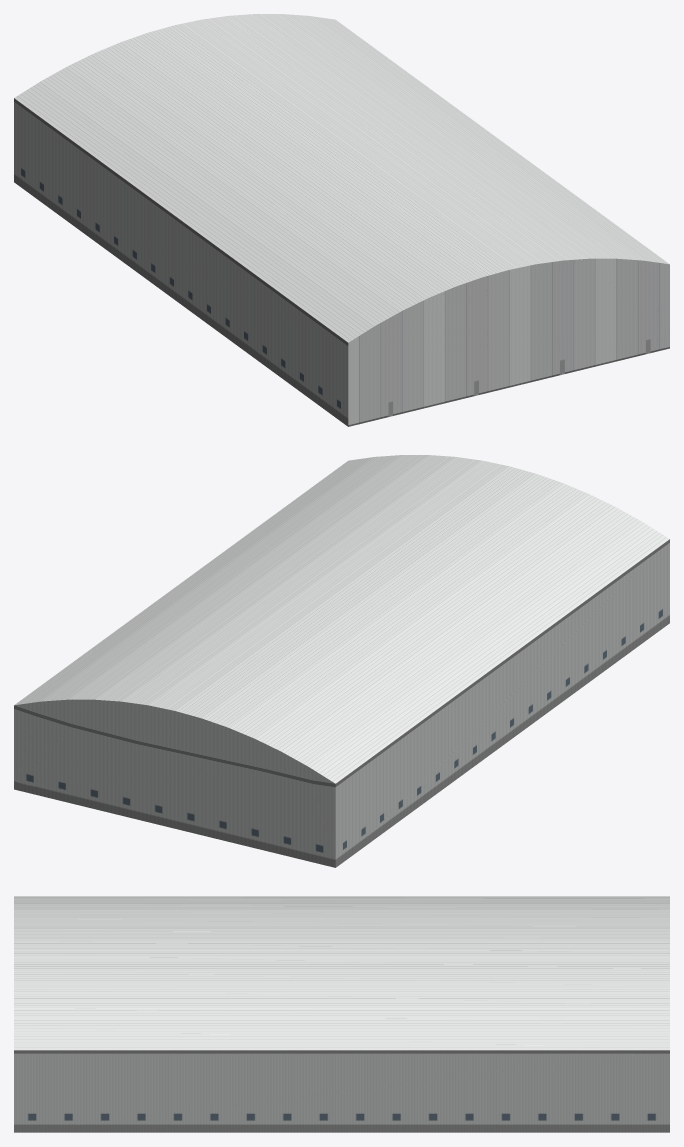
Rendered from khsv_hangar_60x108.glb.
The picture shows the model from 3 angles, top to bottom: view 1: azimuth 30°, elevation 25°; view 2: azimuth 150°, elevation 25°; view 3: azimuth 270°, elevation 25°; orthographic projection.
Visible parts, largest first — view 1: khsv_hangar_60x108_hangar_roof, khsv_hangar_60x108_hangar_door, khsv_hangar_60x108_hangar_wall; view 2: khsv_hangar_60x108_hangar_roof, khsv_hangar_60x108_hangar_wall; view 3: khsv_hangar_60x108_hangar_roof, khsv_hangar_60x108_hangar_wall.
Part boxes in pixels (x1,y1,x2,y2): khsv_hangar_60x108_hangar_roof: [14, 14, 669, 342]; khsv_hangar_60x108_hangar_door: [348, 258, 669, 426]; khsv_hangar_60x108_hangar_wall: [14, 98, 348, 426]; khsv_hangar_60x108_hangar_roof: [14, 455, 669, 783]; khsv_hangar_60x108_hangar_wall: [14, 539, 669, 867]; khsv_hangar_60x108_hangar_roof: [14, 896, 669, 1050]; khsv_hangar_60x108_hangar_wall: [14, 1050, 669, 1132].
Bounding box in the file's own units: 60 × 21 × 108.
Materials: 3 (3 with a texture image).
